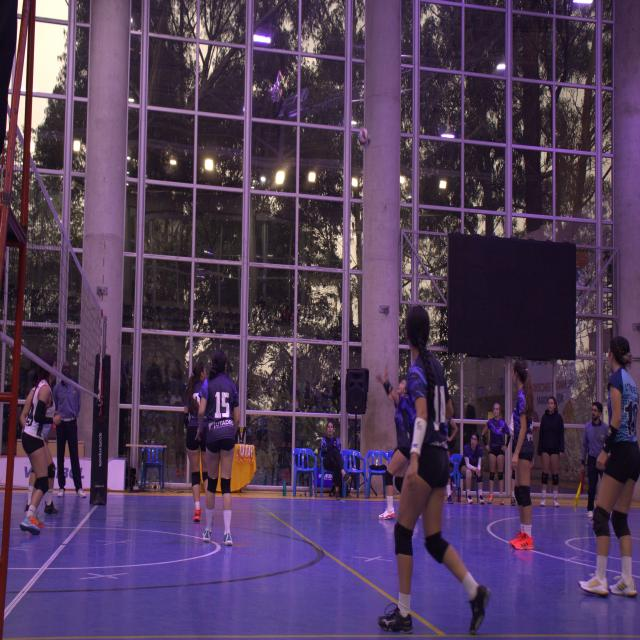volleyball: (358, 128, 371, 147)
